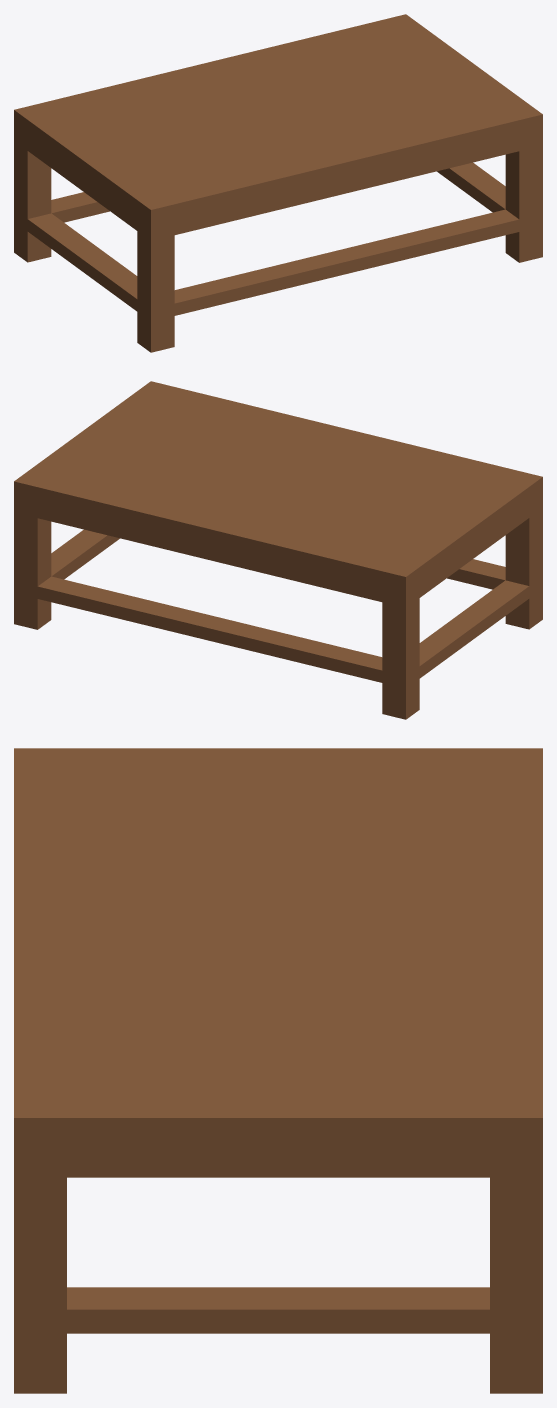
Rendered from m_coffee_table.glb.
3 views of the same model, one above another, from view 1: azimuth 30°, elevation 25°; view 2: azimuth 150°, elevation 25°; view 3: azimuth 270°, elevation 25° (orthographic). The views are drawn at different scales.
Visible parts, largest first — view 1: tableCoffee(Clone); view 2: tableCoffee(Clone); view 3: tableCoffee(Clone).
Boxes of the visible parts, x1,y1,x2,y2 form: tableCoffee(Clone): [14, 14, 542, 352]; tableCoffee(Clone): [14, 381, 542, 719]; tableCoffee(Clone): [14, 748, 542, 1393].
Bounding box in the file's own units: 1.21 × 0.42 × 0.7305.
